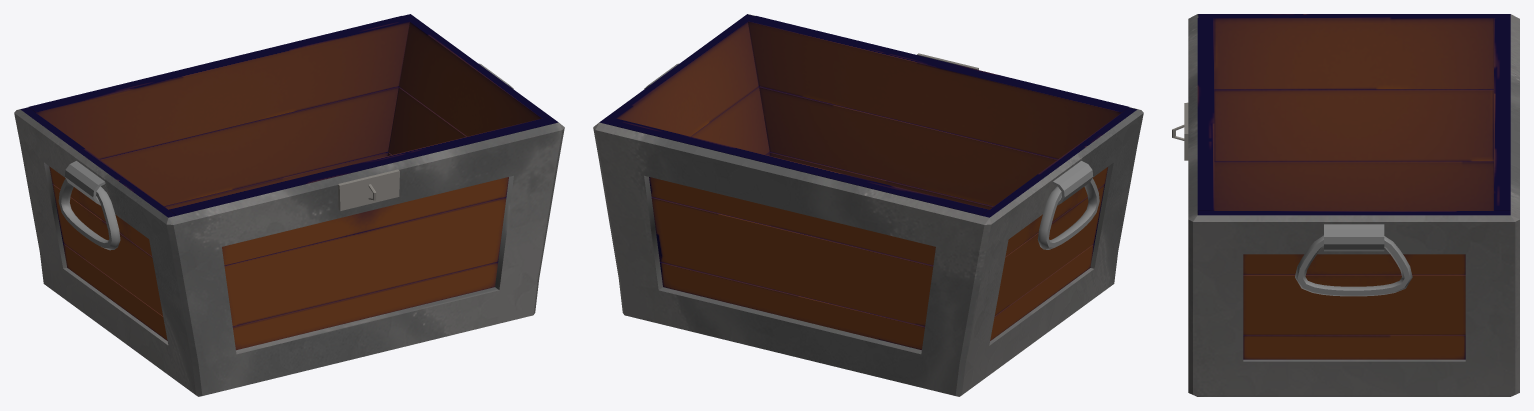
The model's file is ChestBottom.fbx.
The picture shows the model from 3 angles, left to right: view 1: azimuth 30°, elevation 25°; view 2: azimuth 150°, elevation 25°; view 3: azimuth 270°, elevation 25°; orthographic projection. The views are drawn at different scales.
Visible parts, largest first — view 1: Wood, Metal_Trim, Lock_Bottom_Base, R_Handle, R_Handle_Loop; view 2: Wood, Metal_Trim, R_Handle, R_Handle_Loop; view 3: Wood, Metal_Trim, L_Handle, L_Handle_Loop.
Part boxes in pixels (x1=…): Wood: x1=20, y1=14, x2=558, y2=350; Metal_Trim: x1=14, y1=14, x2=564, y2=396; Lock_Bottom_Base: x1=338, y1=169, x2=399, y2=210; R_Handle: x1=58, y1=178, x2=120, y2=250; R_Handle_Loop: x1=64, y1=161, x2=105, y2=205; Wood: x1=599, y1=14, x2=1136, y2=350; Metal_Trim: x1=593, y1=14, x2=1143, y2=396; R_Handle: x1=1037, y1=178, x2=1099, y2=249; R_Handle_Loop: x1=1052, y1=161, x2=1093, y2=205; Wood: x1=1197, y1=14, x2=1510, y2=359; Metal_Trim: x1=1188, y1=14, x2=1519, y2=396; L_Handle: x1=1295, y1=235, x2=1412, y2=296; L_Handle_Loop: x1=1324, y1=224, x2=1384, y2=251.
Bounding box in the file's own units: 10.64 × 4.52 × 7.21.
